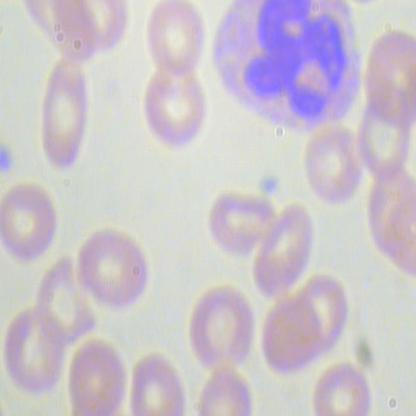Platelets: (251, 170, 278, 196), (0, 141, 13, 173)
RBC: (186, 280, 258, 378), (76, 227, 152, 315), (254, 198, 316, 300), (202, 180, 276, 264), (4, 301, 68, 396), (140, 64, 208, 152), (40, 55, 90, 174), (298, 125, 366, 208), (257, 298, 321, 382), (66, 336, 133, 415), (0, 175, 60, 263), (140, 1, 206, 76), (356, 101, 412, 182), (308, 359, 380, 415), (129, 348, 188, 415)
WBC: (203, 1, 375, 139)
